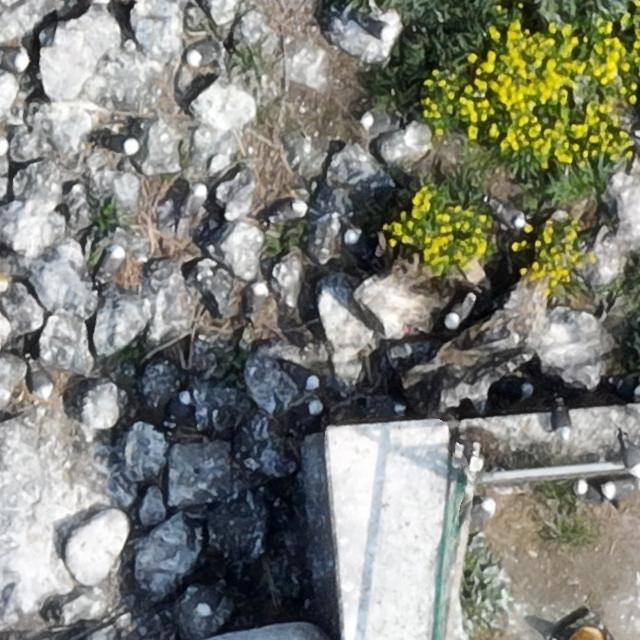umineko: (26, 363, 56, 398), (196, 585, 226, 616), (493, 203, 526, 229), (444, 296, 472, 326), (98, 247, 123, 279), (344, 228, 369, 259), (167, 391, 190, 424), (286, 365, 319, 388), (272, 200, 307, 220), (356, 18, 391, 38), (184, 185, 206, 216), (362, 114, 393, 134), (472, 498, 494, 526), (604, 479, 635, 498), (188, 46, 216, 66), (2, 50, 28, 70), (553, 407, 569, 438), (250, 283, 267, 312), (576, 482, 600, 502), (625, 442, 639, 472), (111, 138, 136, 154), (306, 398, 323, 418)
